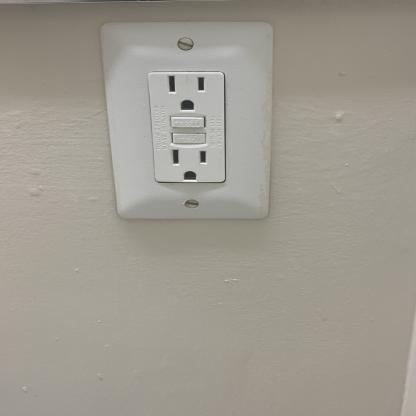OUTLET: (100, 21, 278, 221)
